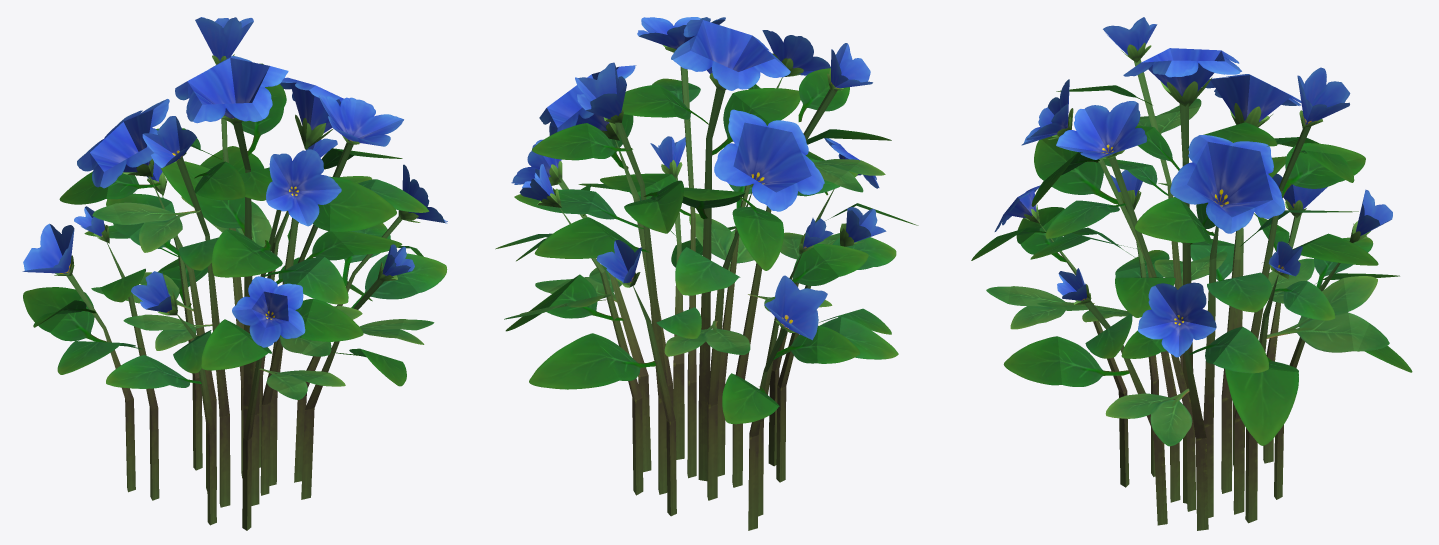
File: P_FlowerAiqianniu_03.obj
3 views of the same model, side by side, from view 1: azimuth 30°, elevation 25°; view 2: azimuth 150°, elevation 25°; view 3: azimuth 270°, elevation 25° (orthographic). The views are drawn at different scales.
Size of the model in its own units: 0.946 by 1.01 by 0.9392.
1 material, 1 textured.
